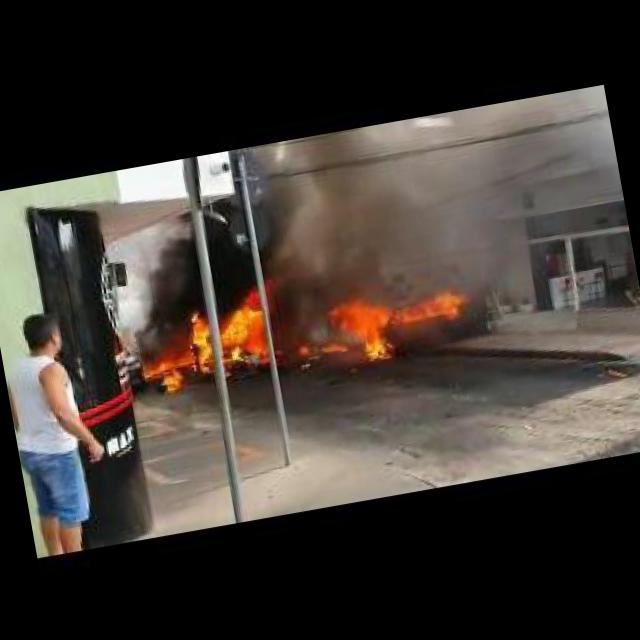fire: (139, 292, 277, 406), (304, 280, 469, 368)
smoke: (257, 86, 633, 316), (108, 226, 206, 365)
